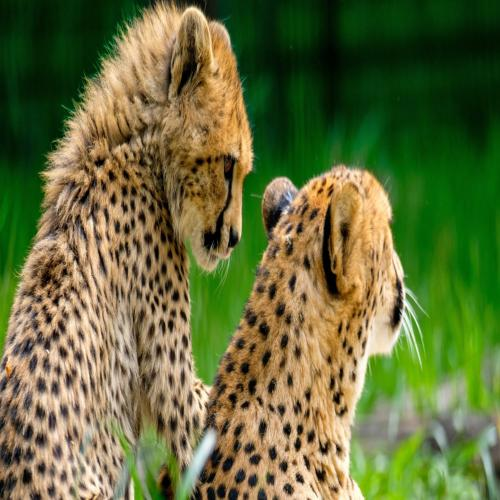cheetah-endangered: (0, 9, 253, 500), (175, 165, 406, 500)
